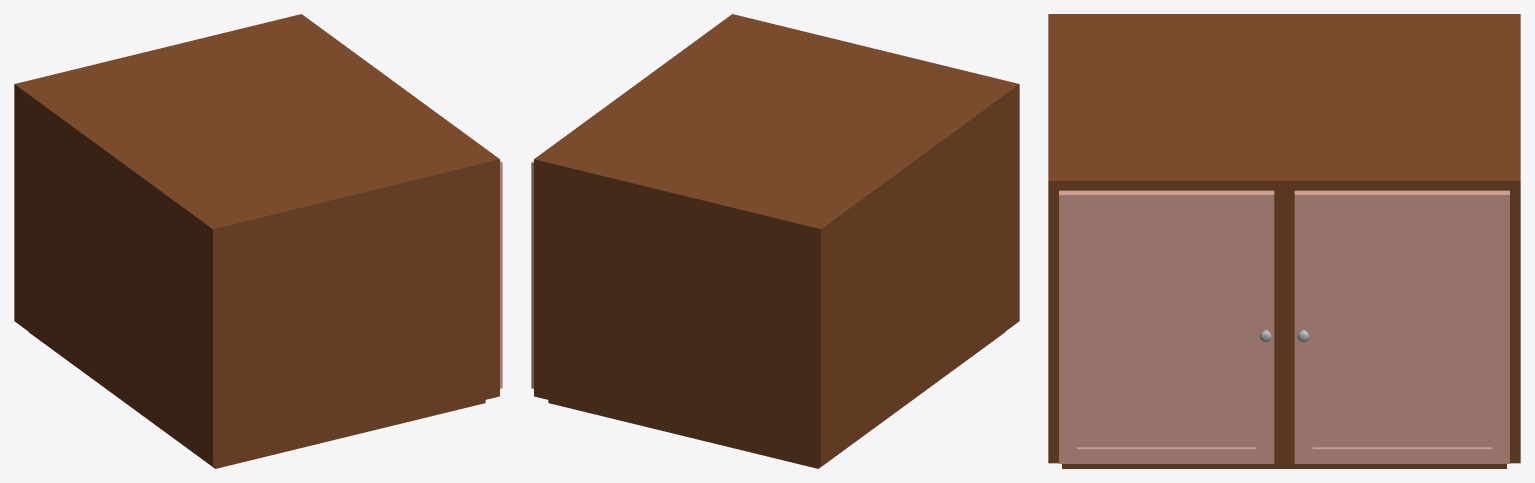
File: SM_Comptoir03.fbx
3 views of the same model, side by side, from view 1: azimuth 30°, elevation 25°; view 2: azimuth 150°, elevation 25°; view 3: azimuth 270°, elevation 25° (orthographic). The views are drawn at different scales.
Parts seen in each view (by area): view 1: Cube.047, Cube.061; view 2: Cube.047, Cube.061; view 3: Cube.061, Cube.047.
Part boxes in pixels (x1,y1,x2,y2): Cube.047: (14,14,499,468); Cube.061: (500,161,502,388); Cube.047: (534,14,1019,468); Cube.061: (531,161,533,388); Cube.061: (1059,190,1509,463); Cube.047: (1048,14,1520,468).
Bounding box in the file's own units: 6407 × 4995 × 7300.
